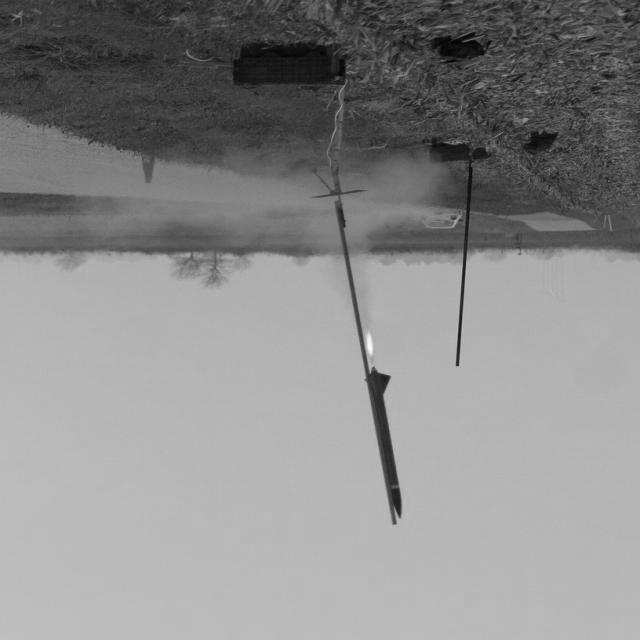Missile: (362, 368, 400, 535)
